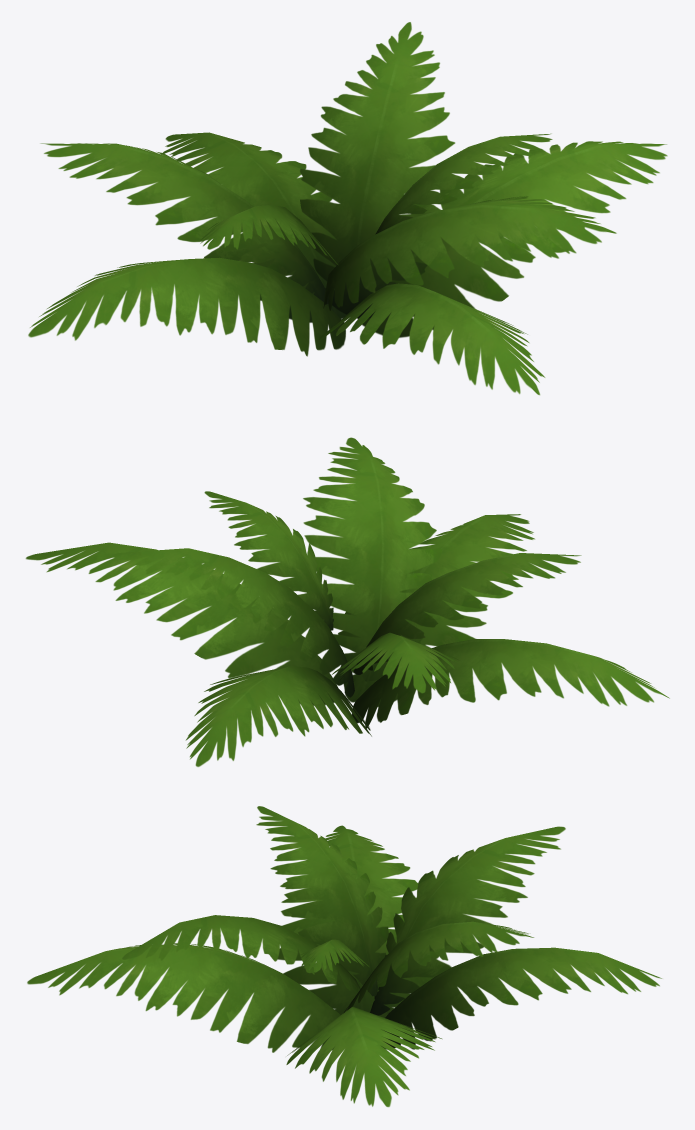
3 views of the same model, one above another, from view 1: azimuth 30°, elevation 25°; view 2: azimuth 150°, elevation 25°; view 3: azimuth 270°, elevation 25° (orthographic). The views are drawn at different scales.
Visible parts, largest first — view 1: Fern_1; view 2: Fern_1; view 3: Fern_1.
Part boxes in pixels (<box>): Fern_1: <box>28,22,667,395</box>; Fern_1: <box>25,437,669,766</box>; Fern_1: <box>27,806,661,1107</box>.
Bounding box in the file's own units: 9.05 × 2.69 × 8.49.
1 material, 1 textured.
